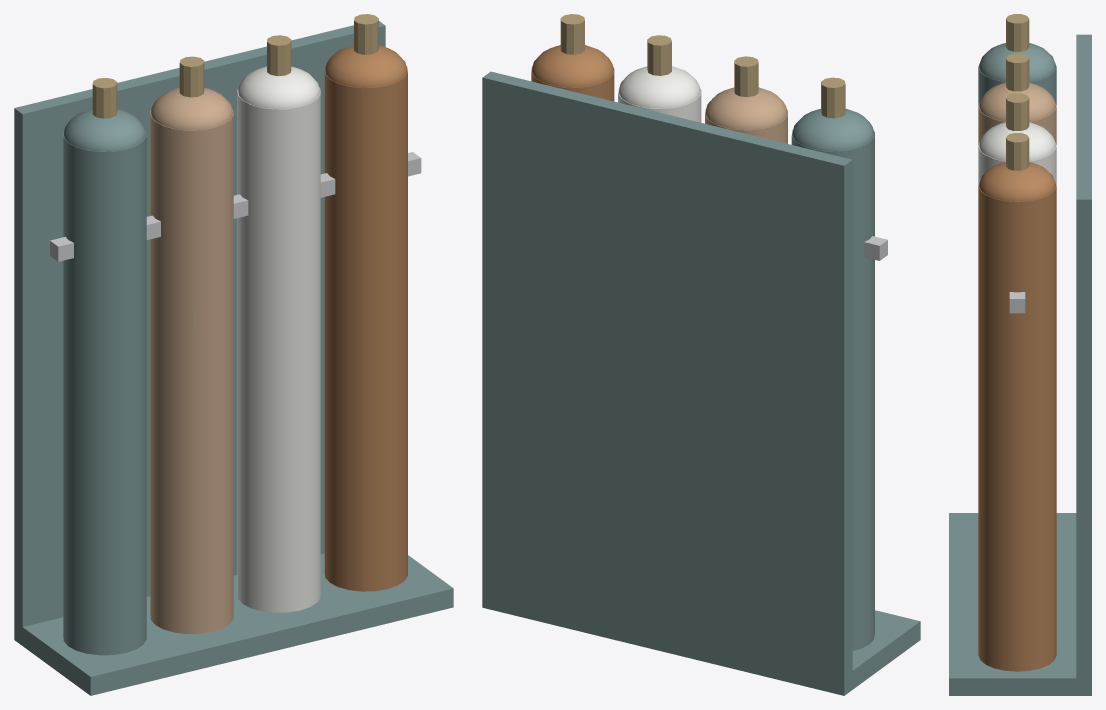
The model's file is gas_cylinders.glb.
3 renders of one model, left to right at view 1: azimuth 30°, elevation 25°; view 2: azimuth 150°, elevation 25°; view 3: azimuth 270°, elevation 25°, orthographic. The views are drawn at different scales.
Parts seen in each view (by area): view 1: gas_cylinders; view 2: gas_cylinders; view 3: gas_cylinders.
Boxes of the visible parts, bbox=[...] form: gas_cylinders: bbox=[14, 14, 453, 695]; gas_cylinders: bbox=[482, 14, 920, 695]; gas_cylinders: bbox=[949, 14, 1091, 695].
Size of what is drawn, in the model's own units: 1 by 1.51 by 0.365.
